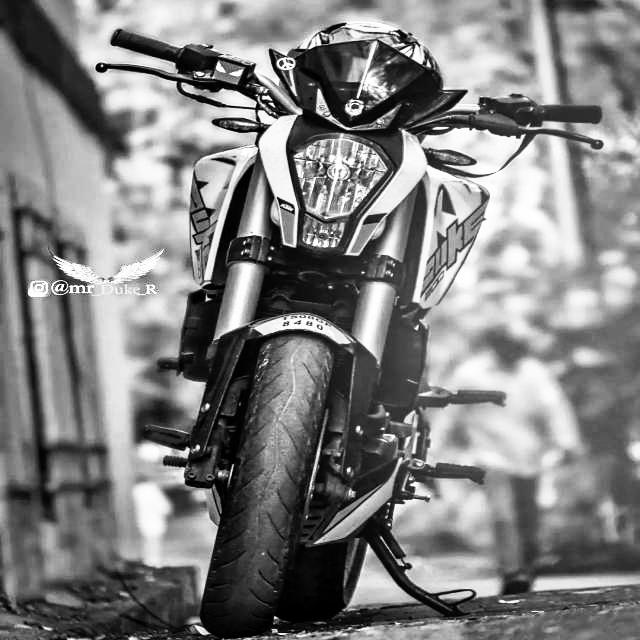Bike: (94, 21, 601, 640)
